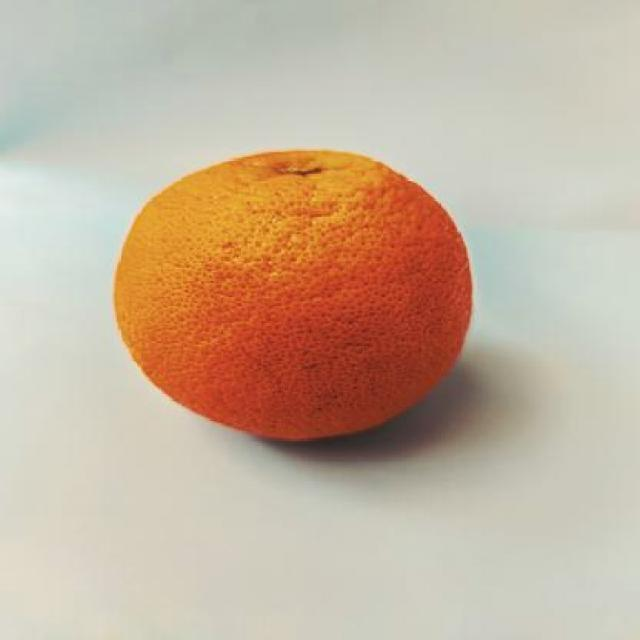Jeruk Sudah Matang: (114, 152, 477, 448)
